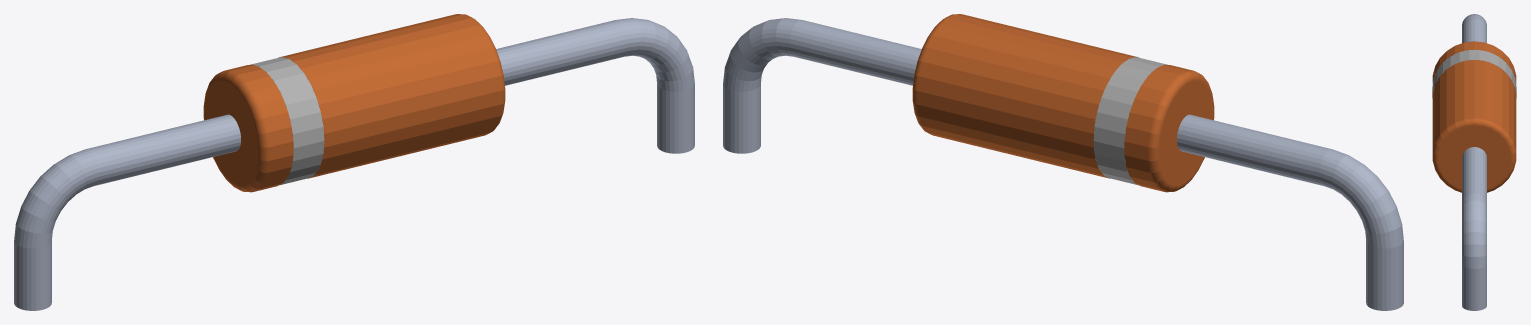
3 renders of one model, left to right at view 1: azimuth 30°, elevation 25°; view 2: azimuth 150°, elevation 25°; view 3: azimuth 270°, elevation 25°, orthographic. The views are drawn at different scales.
Parts seen in each view (by area): view 1: DO-35_11mm; view 2: DO-35_11mm; view 3: DO-35_11mm.
Boxes of the visible parts, x1=… form: DO-35_11mm: x1=14, y1=14, x2=694, y2=310; DO-35_11mm: x1=723, y1=14, x2=1403, y2=310; DO-35_11mm: x1=1432, y1=14, x2=1516, y2=310.
Bounding box in the file's own units: 0.0125 × 0.00314 × 0.002.
